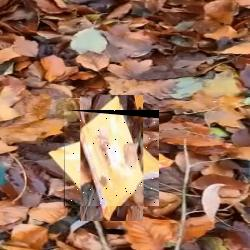plastic: (64, 110, 159, 206)
